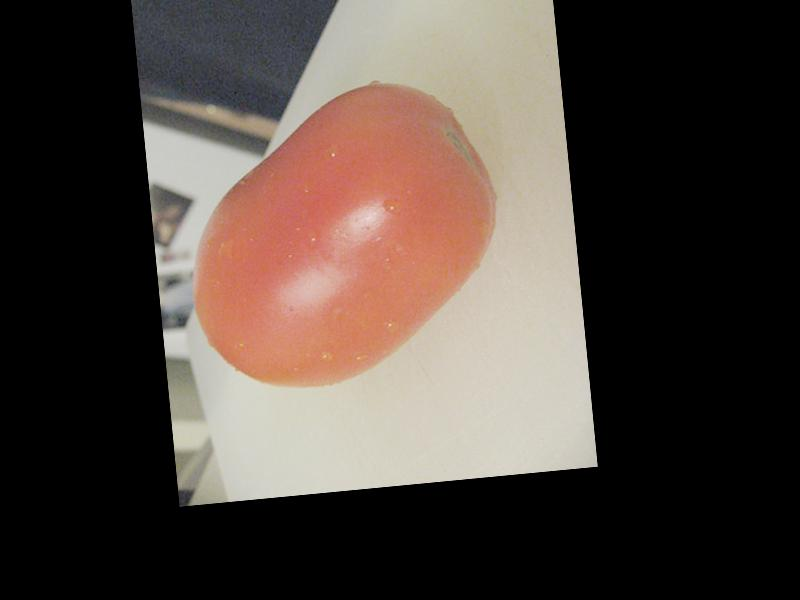Tomato: (173, 73, 509, 396)
